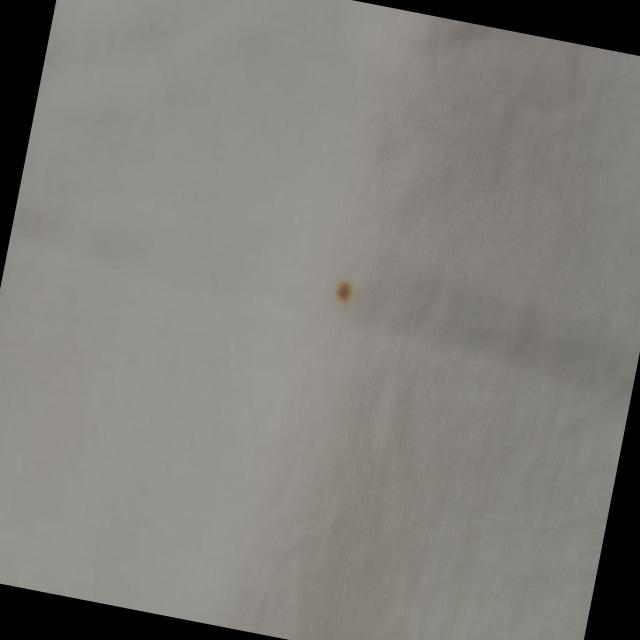stain: (319, 258, 369, 326)
